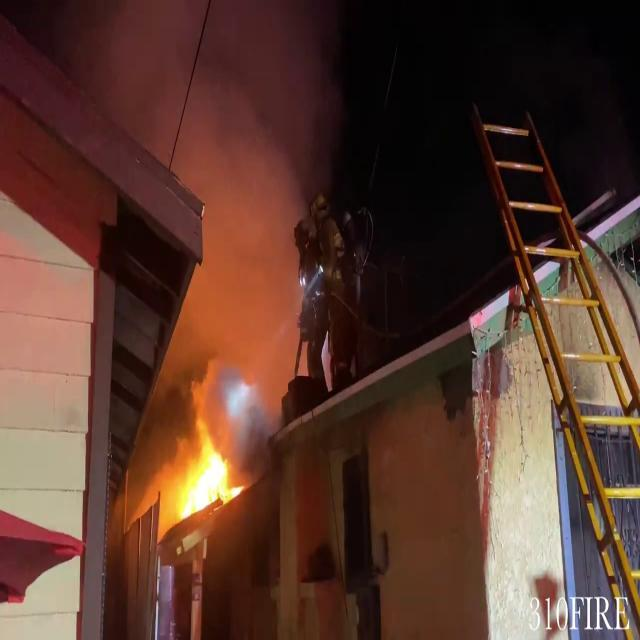Fire: (173, 412, 241, 529)
Smoke: (107, 10, 326, 372)
